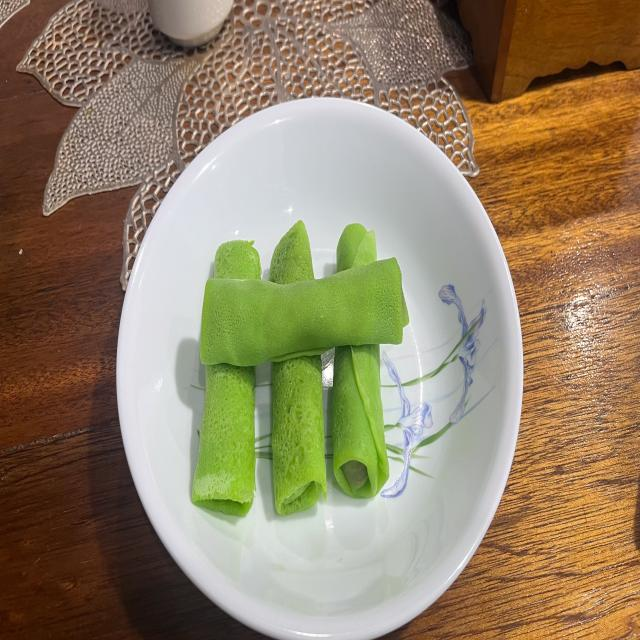Kuih-Ketayap: (200, 258, 409, 367), (192, 362, 255, 516), (271, 353, 326, 516), (332, 344, 389, 498), (270, 220, 314, 284), (336, 224, 378, 273), (214, 240, 261, 280)
